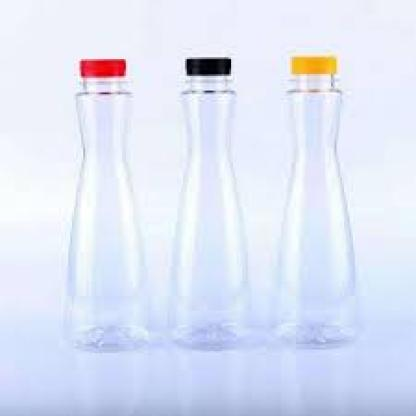Glass Bottle: (46, 51, 160, 351), (267, 52, 368, 352), (164, 54, 256, 357)
